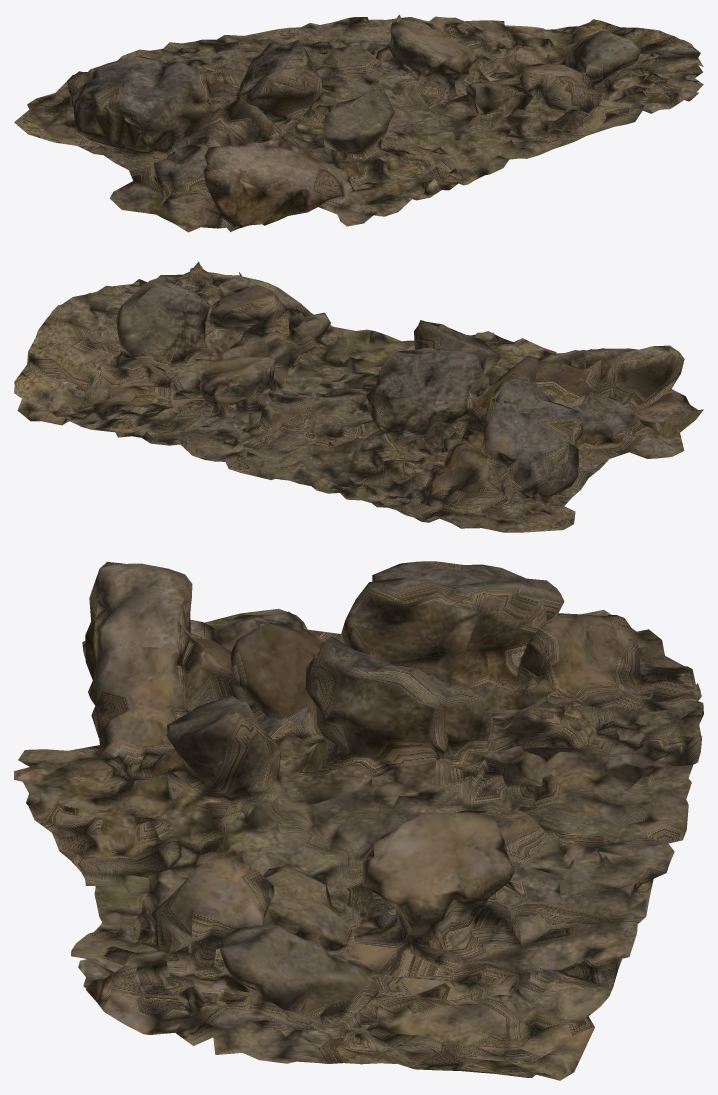
Rendered from coast_land_rocks_03.glb.
The picture shows the model from 3 angles, top to bottom: view 1: azimuth 30°, elevation 25°; view 2: azimuth 150°, elevation 25°; view 3: azimuth 270°, elevation 25°; orthographic projection. The views are drawn at different scales.
Visible parts, largest first — view 1: coast_land_rocks_03; view 2: coast_land_rocks_03; view 3: coast_land_rocks_03.
Part boxes in pixels (<box>): coast_land_rocks_03: <box>14,14,703,232</box>; coast_land_rocks_03: <box>14,261,703,532</box>; coast_land_rocks_03: <box>14,561,703,1080</box>.
Size of the model in its own units: 8.93 by 1.5 by 5.6.
1 material, 1 textured.
